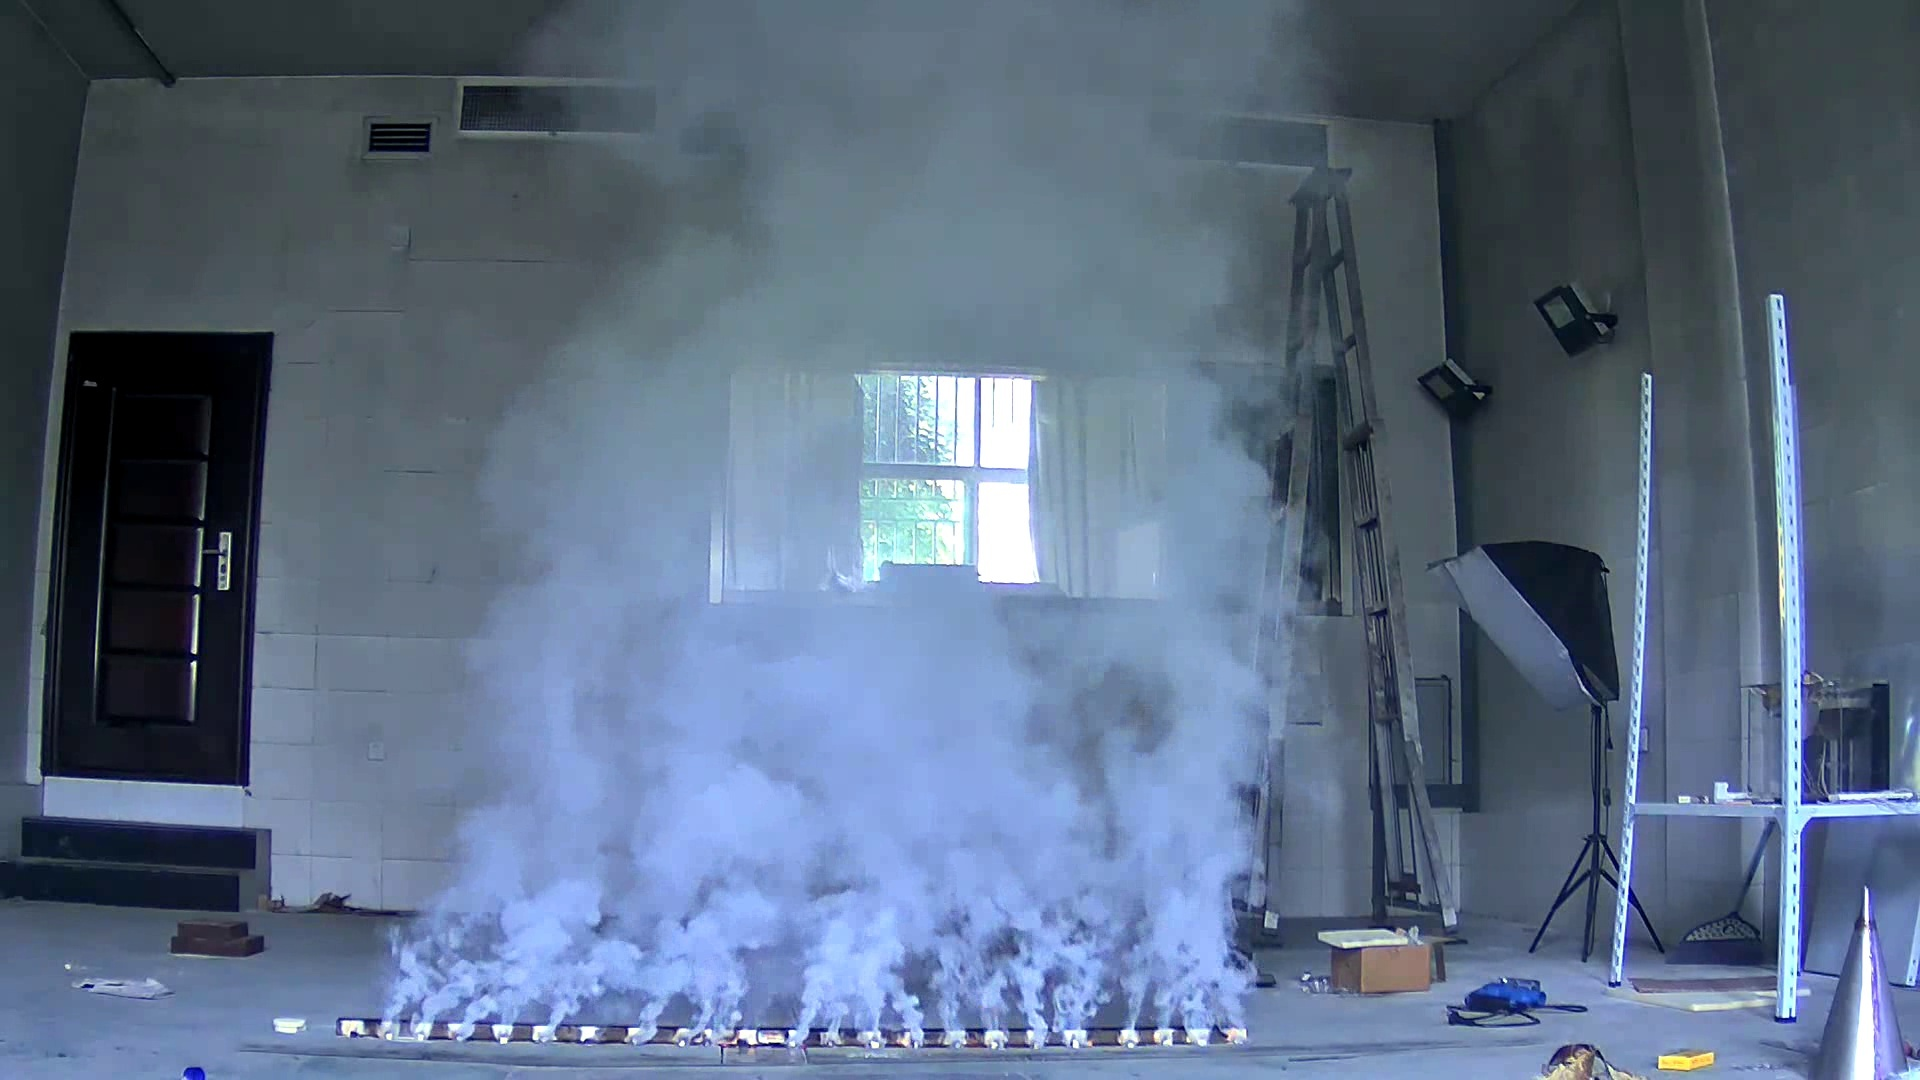smoke: (361, 316, 1317, 1022)
